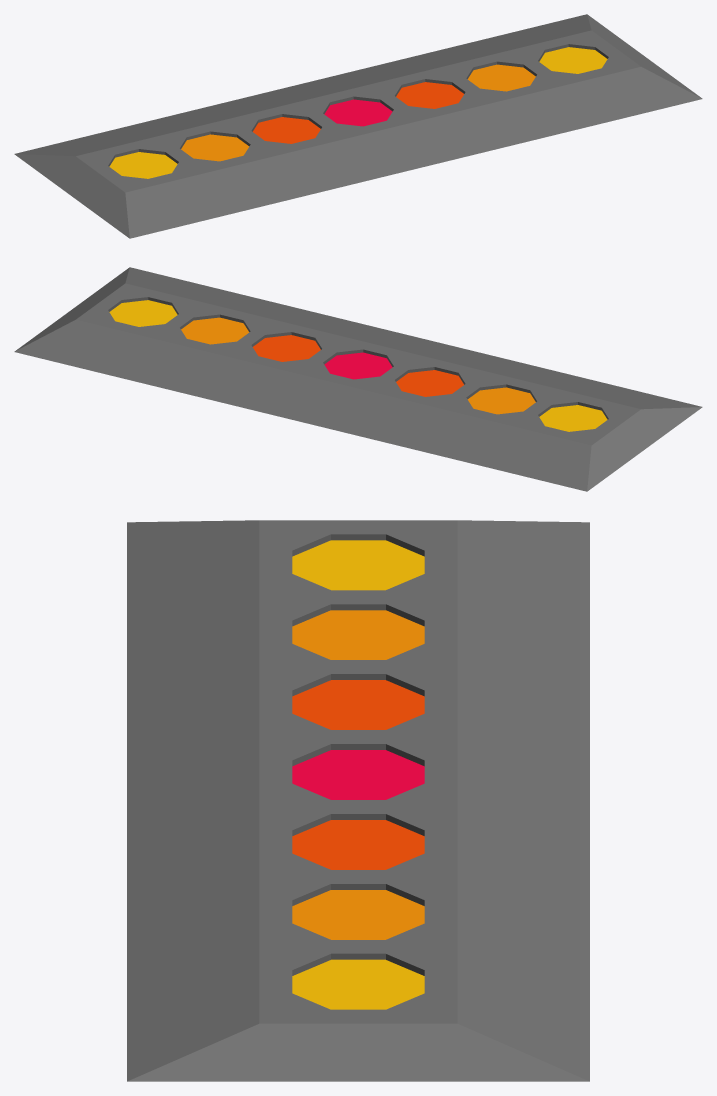
File: Rollover_3.fbx
The picture shows the model from 3 angles, top to bottom: view 1: azimuth 30°, elevation 25°; view 2: azimuth 150°, elevation 25°; view 3: azimuth 270°, elevation 25°; orthographic projection. The views are drawn at different scales.
Visible parts, largest first — view 1: Rollover_3; view 2: Rollover_3; view 3: Rollover_3.
Boxes of the visible parts, x1,y1,x2,y2 form: Rollover_3: (14, 14, 702, 238); Rollover_3: (14, 267, 702, 491); Rollover_3: (127, 520, 589, 1081).
Size of the model in its own units: 40 by 1 by 14.
